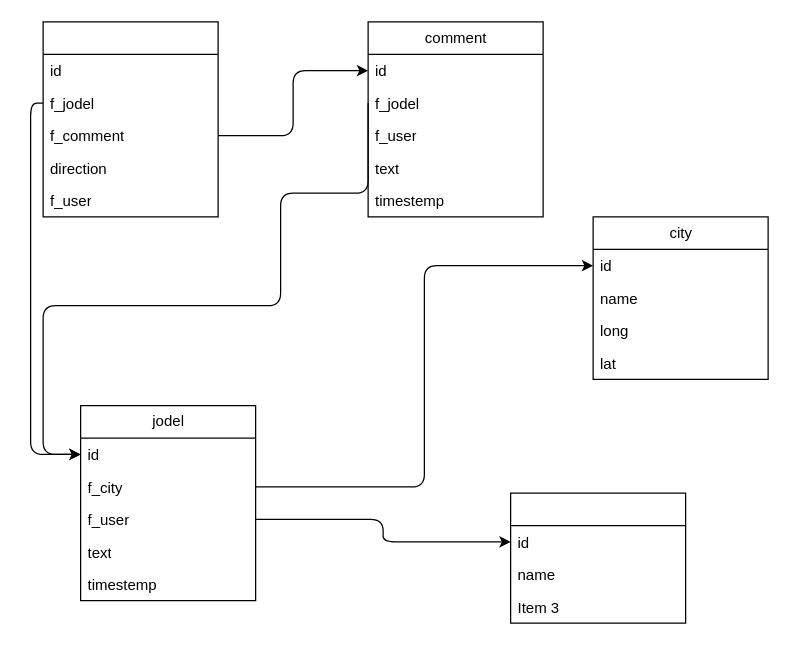
The diagram is 790 pixels wide and 649 high, and some of its shapes have lost their labels. The box of each missing label's shape, as (x1, y1, x2, y2) in pixels:
user: (509, 492, 686, 623)
vote: (42, 21, 218, 217)
